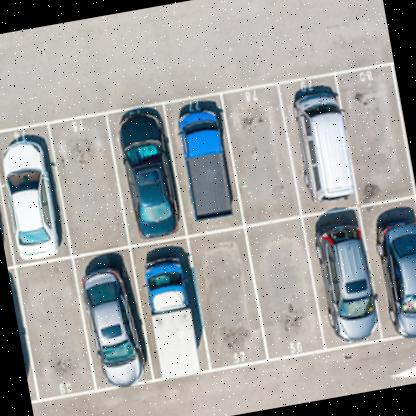Car: (310, 217, 387, 355), (76, 260, 155, 394), (139, 240, 213, 382), (286, 78, 357, 208), (119, 111, 182, 241), (0, 136, 66, 258), (174, 104, 238, 224), (371, 198, 416, 343)
Empty: (48, 112, 130, 255), (15, 259, 96, 399), (246, 220, 324, 358), (222, 85, 300, 222), (338, 62, 412, 203), (192, 230, 264, 366)
